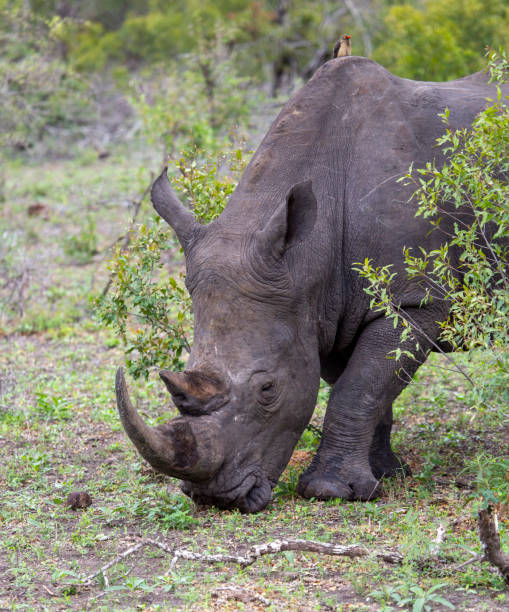rhino: (98, 154, 340, 531)
